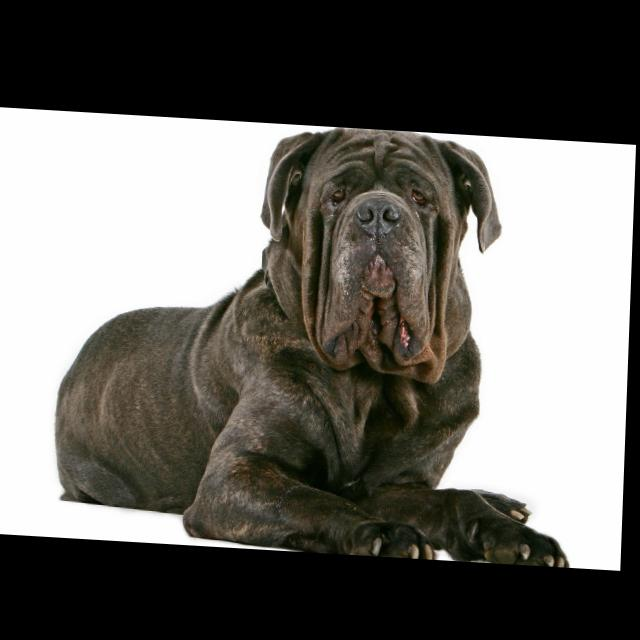mastino_napoletano: (54, 111, 587, 561)
